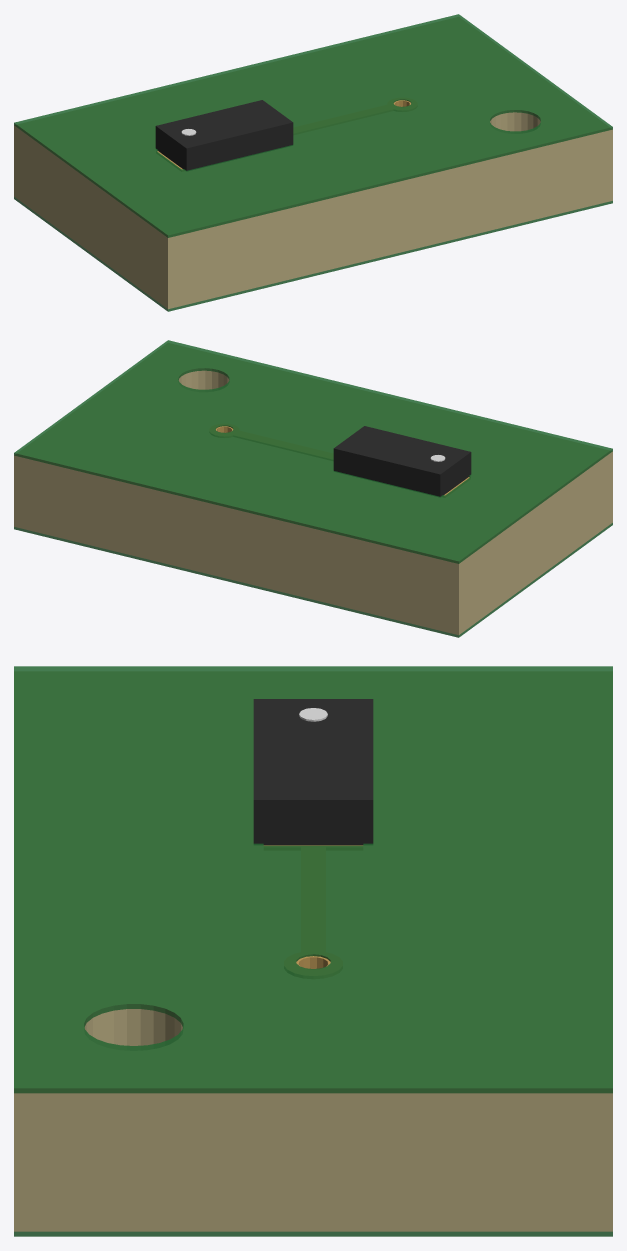
The model's file is pad-stacks.glb.
3 views of the same model, one above another, from view 1: azimuth 30°, elevation 25°; view 2: azimuth 150°, elevation 25°; view 3: azimuth 270°, elevation 25° (orthographic). The views are drawn at different scales.
Parts seen in each view (by area): view 1: layer/@soldermask-top, layer/@core, R1, layer/@soldermask-bottom; view 2: layer/@soldermask-top, layer/@core, R1, layer/@soldermask-bottom; view 3: layer/@soldermask-top, layer/@core, R1, layer/@soldermask-bottom.
Part boxes in pixels (x1,y1,x2,y2): layer/@soldermask-top: (14, 14, 612, 237); layer/@core: (14, 17, 612, 309); R1: (155, 100, 293, 170); layer/@soldermask-bottom: (14, 197, 612, 311); layer/@soldermask-top: (14, 340, 612, 563); layer/@core: (14, 344, 612, 635); R1: (333, 426, 471, 496); layer/@soldermask-bottom: (14, 523, 612, 637); layer/@soldermask-top: (14, 666, 612, 1093); layer/@core: (14, 672, 612, 1231); R1: (253, 699, 373, 845); layer/@soldermask-bottom: (14, 1231, 612, 1236).
Bounding box in the file's own units: 0.01 × 0.00214 × 0.006.
